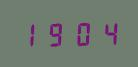four: (93, 19, 117, 46)
nine: (43, 20, 67, 47)
one: (18, 20, 42, 47)
zero: (68, 20, 92, 46)
